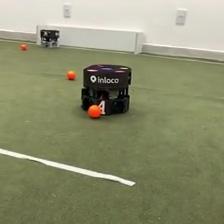ball: (86, 103, 102, 120), (66, 69, 77, 80), (20, 42, 27, 50)
goal: (34, 23, 145, 55)
robot: (79, 61, 131, 115), (38, 28, 61, 49)
